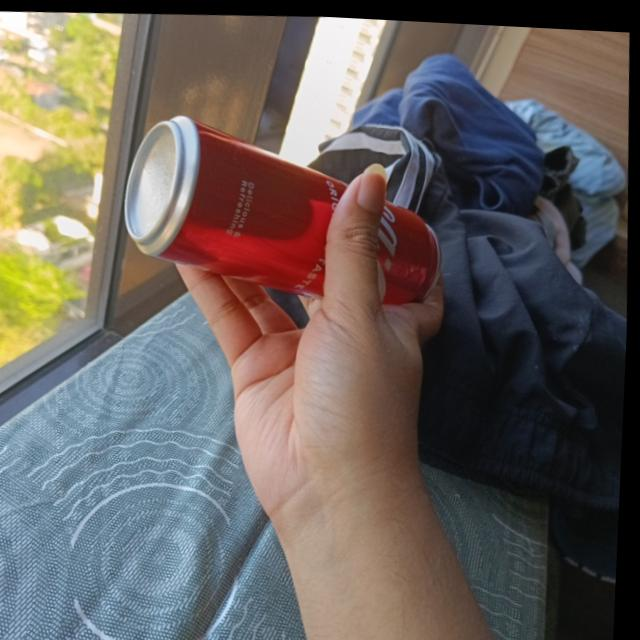coke: (117, 102, 448, 312)
